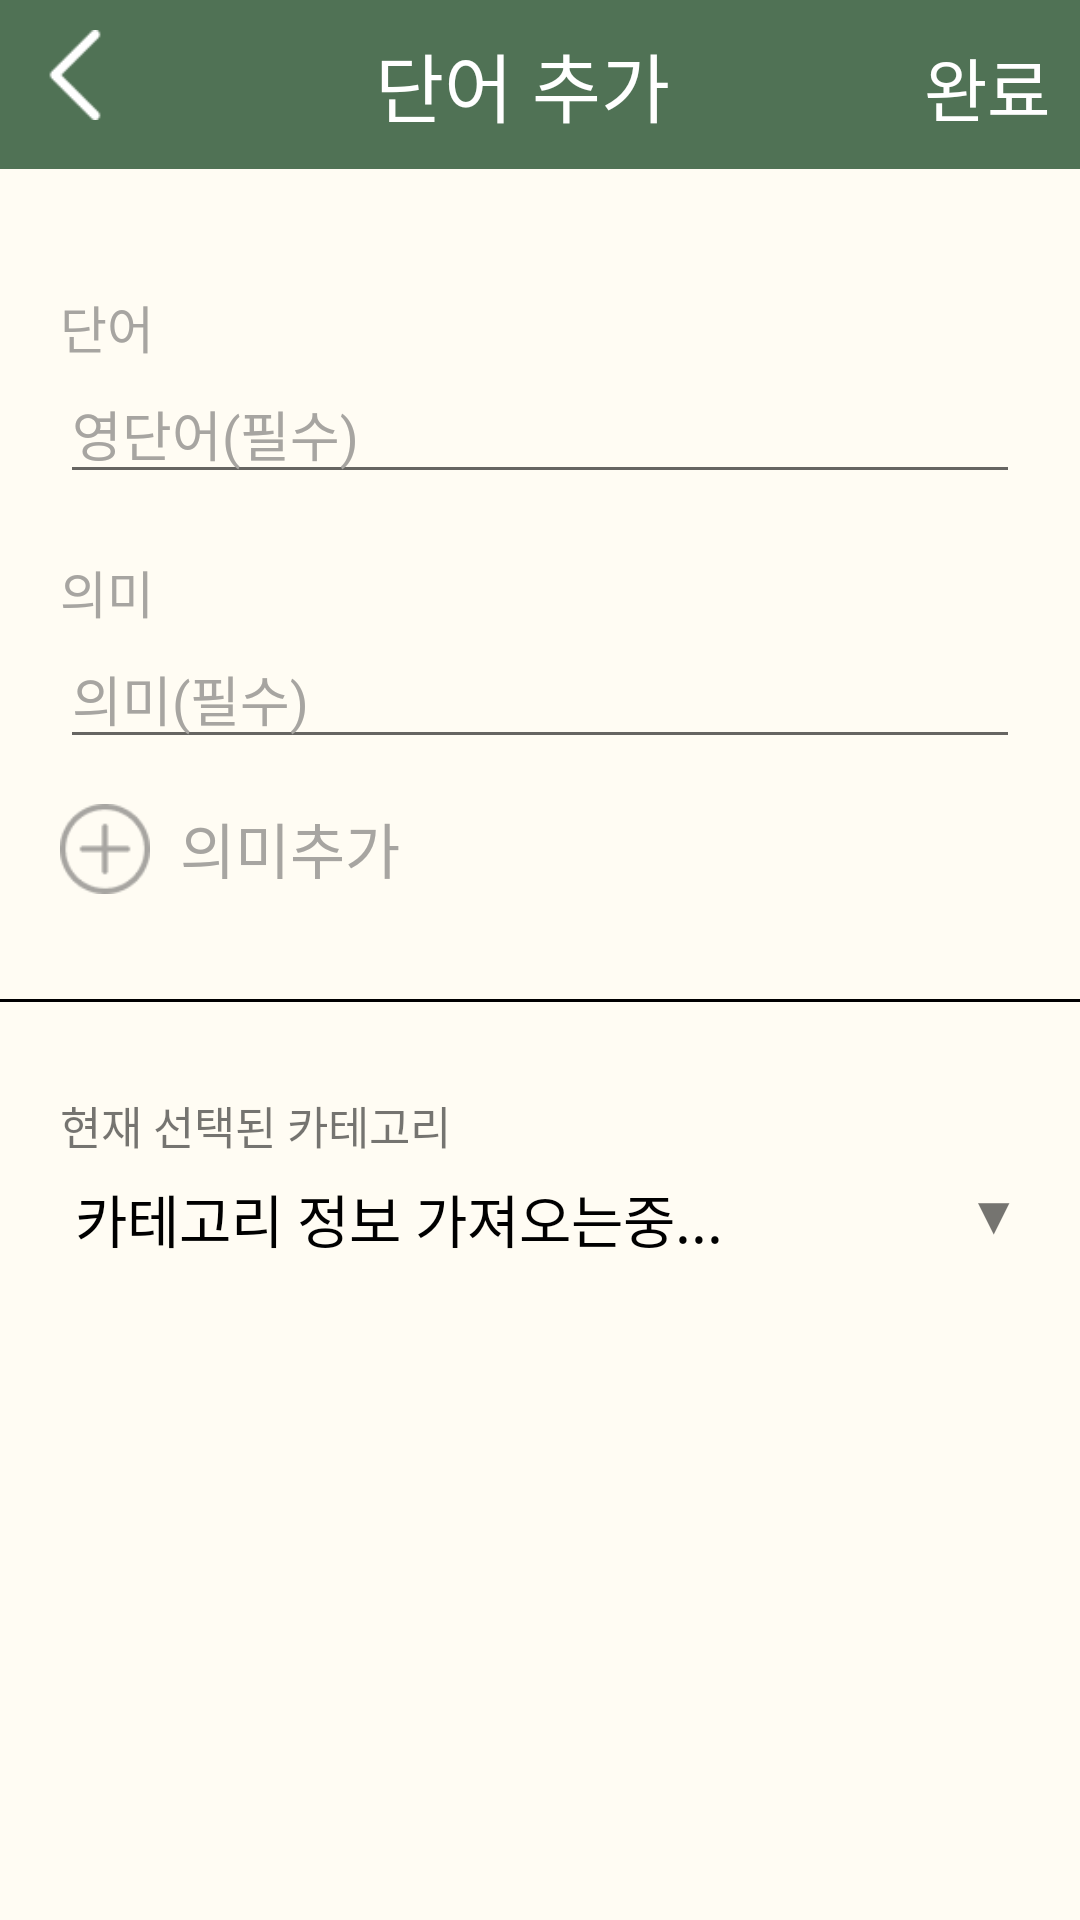

Icon bounding boxes for this 1080px×1920px phone screenshot, format (x1, y1, x2, y2):
backbutton: (49, 30, 101, 120)
word meaning plus: (60, 804, 150, 894)
